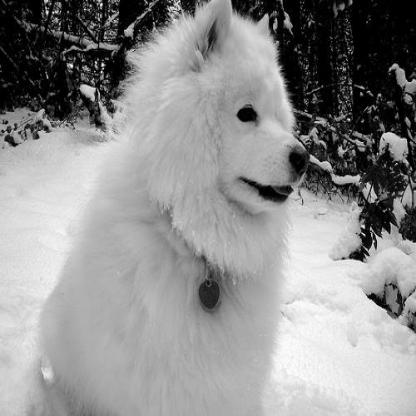Samoyed: (32, 0, 310, 414)
